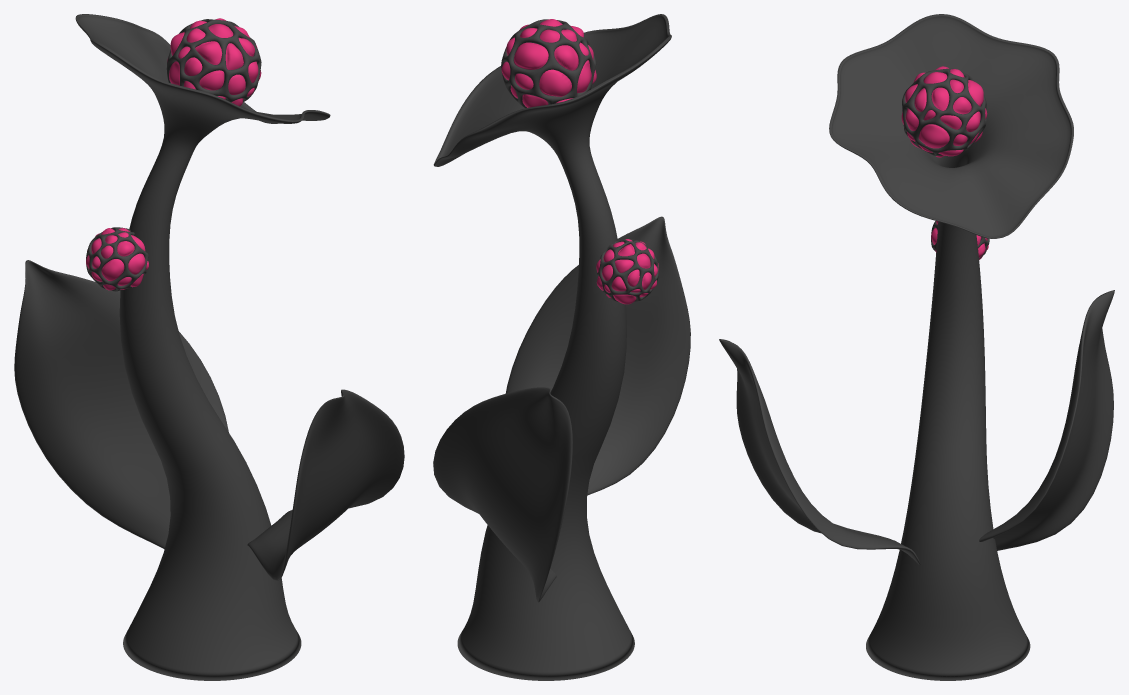
The model's file is MegaPlant#04_fixed.fbx.
3 views of the same model, side by side, from view 1: azimuth 30°, elevation 25°; view 2: azimuth 150°, elevation 25°; view 3: azimuth 270°, elevation 25° (orthographic). The views are drawn at different scales.
Visible parts, largest first — view 1: Cylinder, Plane.002, Plane.001, Roundcube.001, Roundcube, Roundcube.002, Roundcube.003; view 2: Cylinder, Plane.002, Plane.001, Roundcube.001, Roundcube, Roundcube.002, Roundcube.003; view 3: Cylinder, Plane.002, Plane.001, Roundcube.001, Roundcube.
Boxes of the visible parts, <box> form: Cylinder: <box>75,14,330,680</box>; Plane.002: <box>14,260,228,549</box>; Plane.001: <box>247,389,404,580</box>; Roundcube.001: <box>167,18,261,106</box>; Roundcube: <box>166,19,261,102</box>; Roundcube.002: <box>86,228,148,290</box>; Roundcube.003: <box>86,227,148,291</box>; Cylinder: <box>433,14,671,680</box>; Plane.002: <box>433,387,572,602</box>; Plane.001: <box>505,216,690,495</box>; Roundcube.001: <box>501,19,596,107</box>; Roundcube: <box>501,19,596,108</box>; Roundcube.002: <box>596,239,658,304</box>; Roundcube.003: <box>597,238,658,301</box>; Cylinder: <box>829,14,1073,680</box>; Plane.002: <box>979,290,1114,550</box>; Plane.001: <box>719,339,920,564</box>; Roundcube.001: <box>901,66,987,157</box>; Roundcube: <box>902,68,986,155</box>.
Bounding box in the file's own units: 494 × 1311 × 811.
